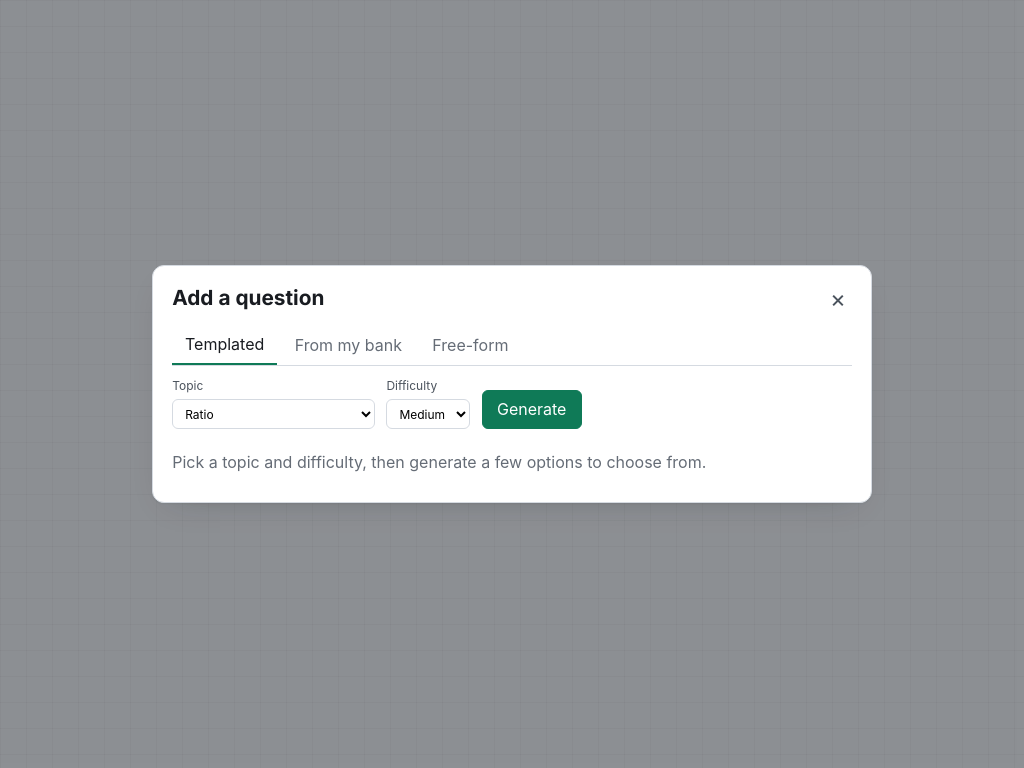
Test case: AddQuestion picker › From my bank › shows a bank error
The width and height of the screenshot is (1024, 768).
Click the tab "From my bank" at {"x": 348, "y": 345}, box [282,326,415,365]
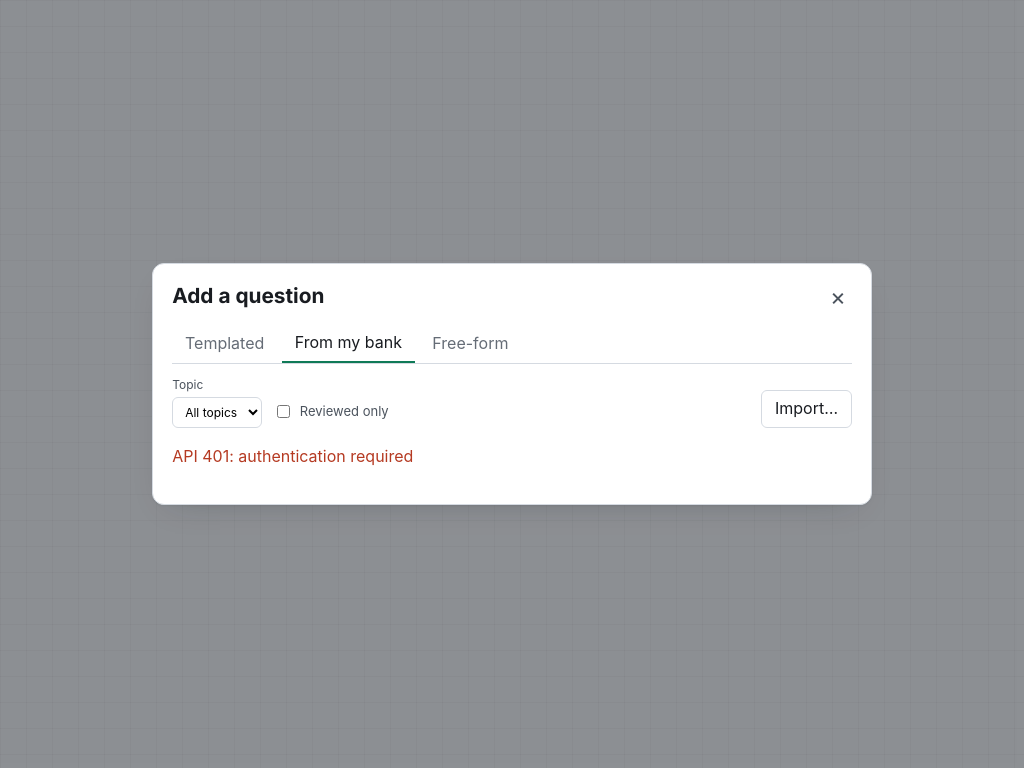
Result: the message shows "authentication required" at [172,446,413,466]
